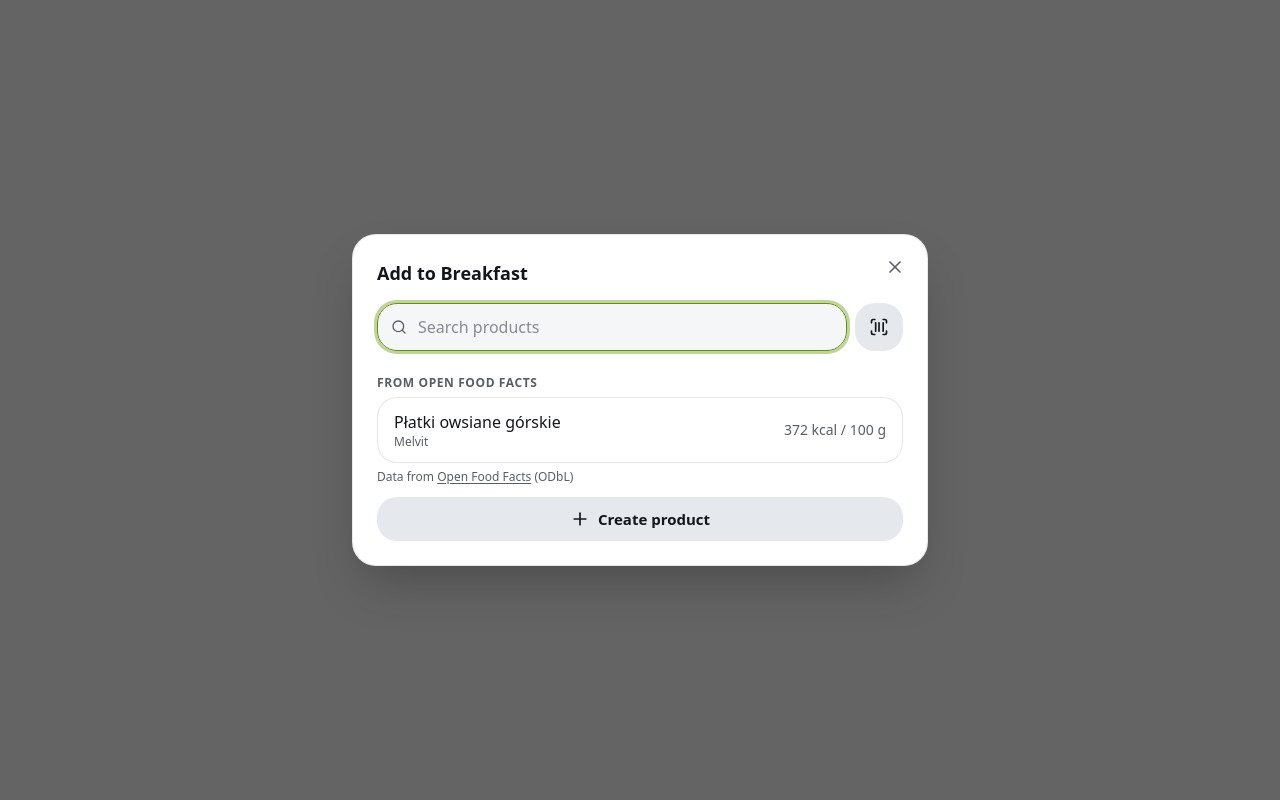
Scenario: keeps search open when a cancelled product creation finishes
Click the button "Płatki owsiane górskie Melvit 372 kcal / 100 g".
click(477, 422)  # box [377,397,903,463]
(page scrolled)
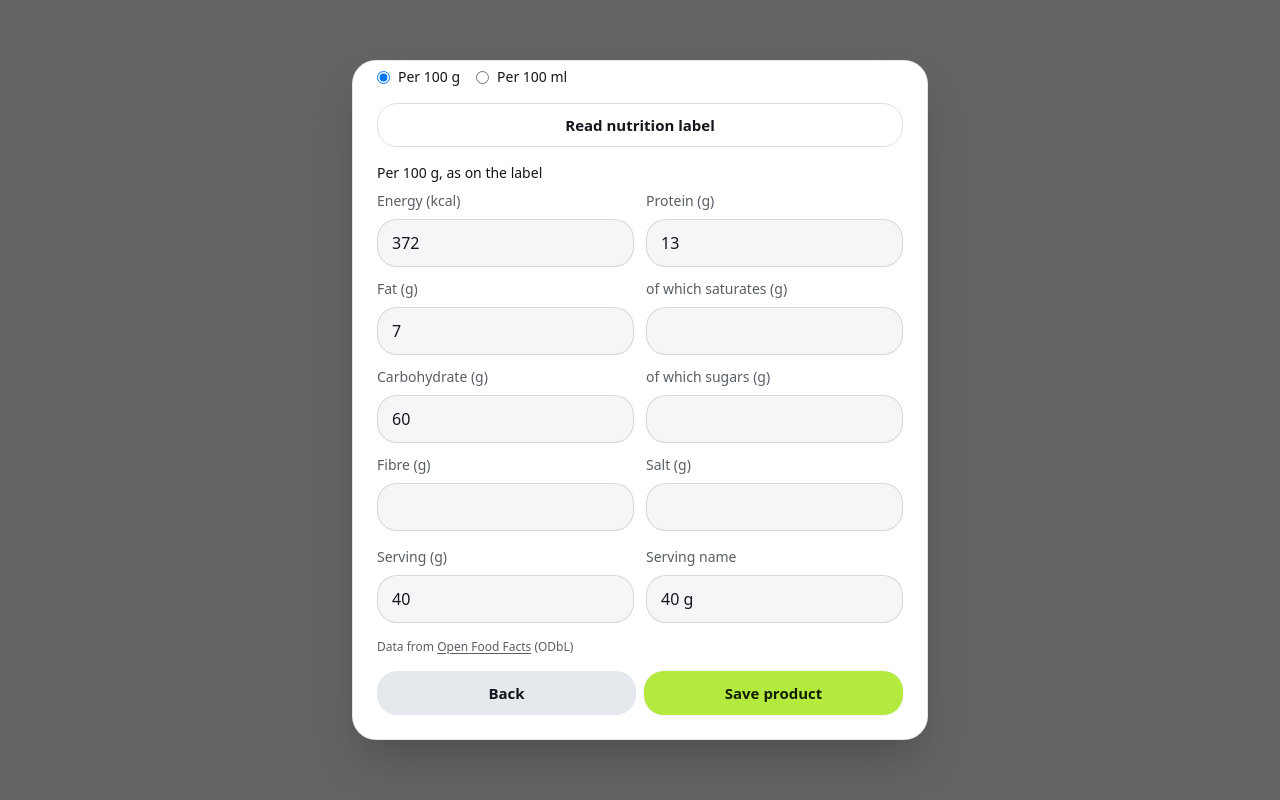
Click the button "Save product".
click(774, 693)  # box [644,671,903,715]
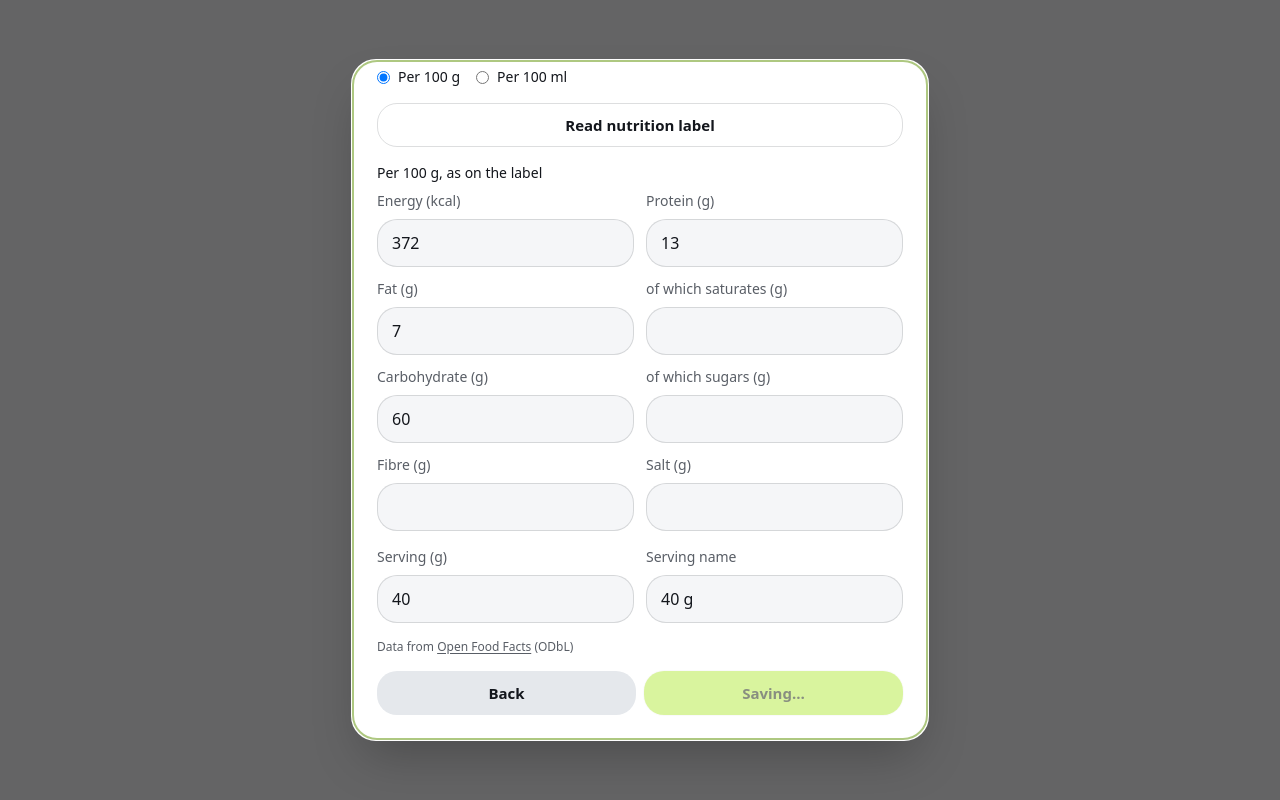
Click the button "Back".
click(506, 693)  # box [377,671,636,715]
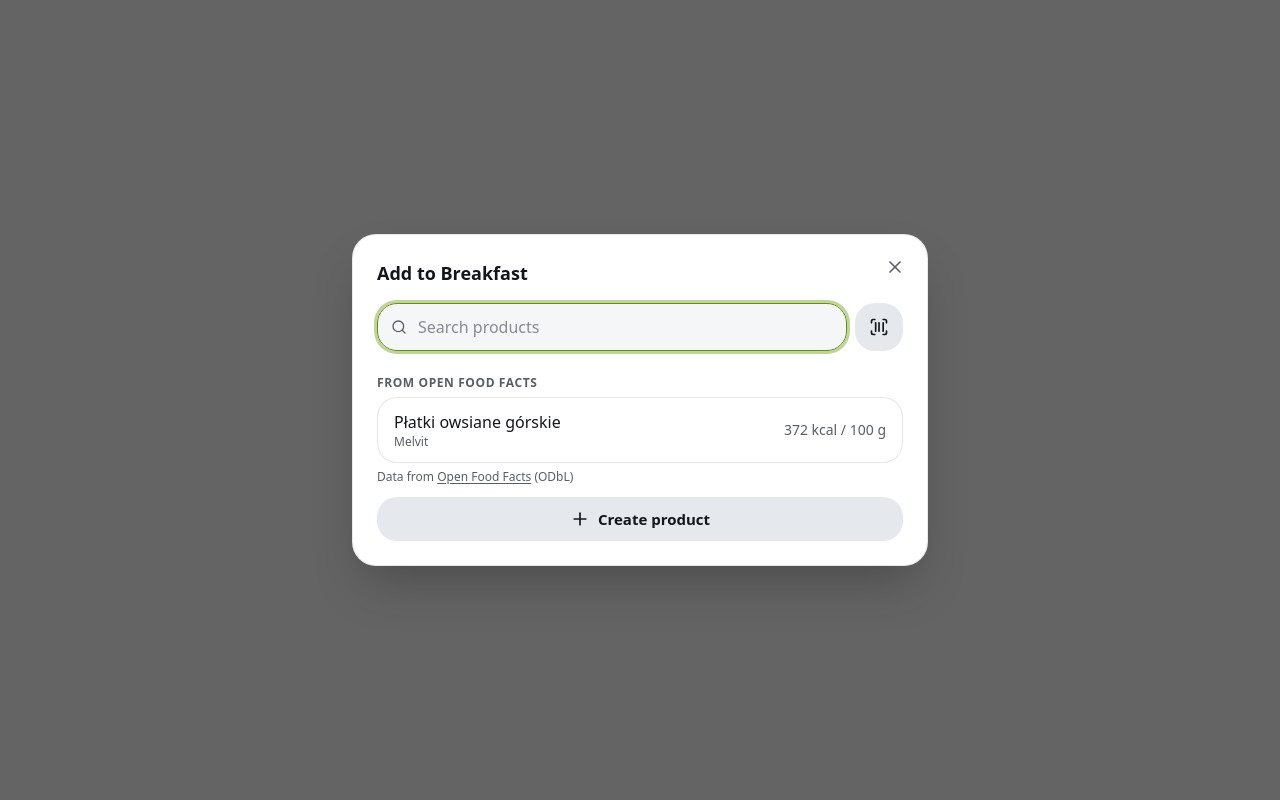
Expected: the search field labelled "Search products" is shown, [377,303,847,351]
